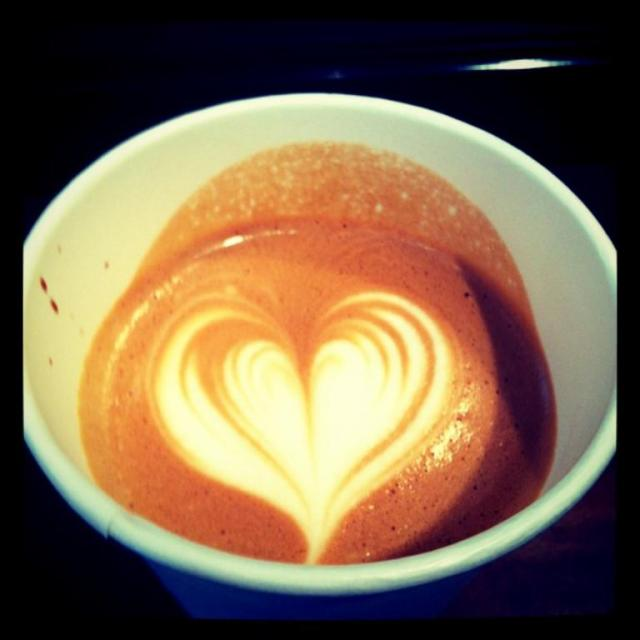Coffee: (37, 125, 599, 610)
